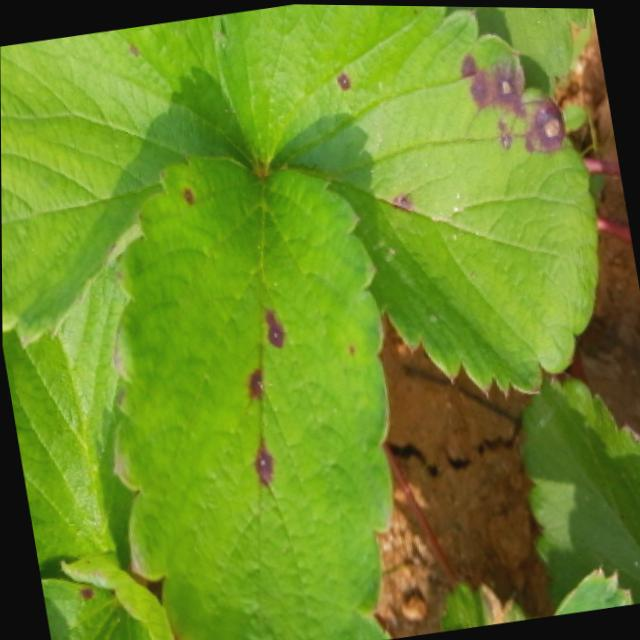Leaf Spot: (215, 3, 599, 399), (110, 149, 394, 640), (0, 15, 259, 351), (40, 553, 171, 640)
